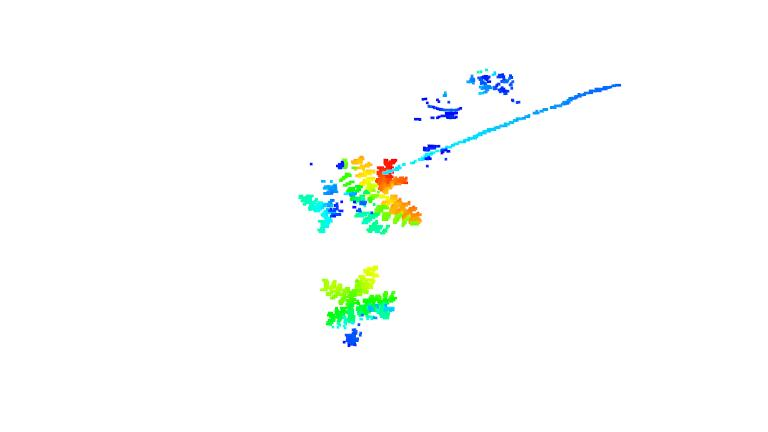chickpea: (298, 154, 423, 239), (320, 265, 397, 343)
